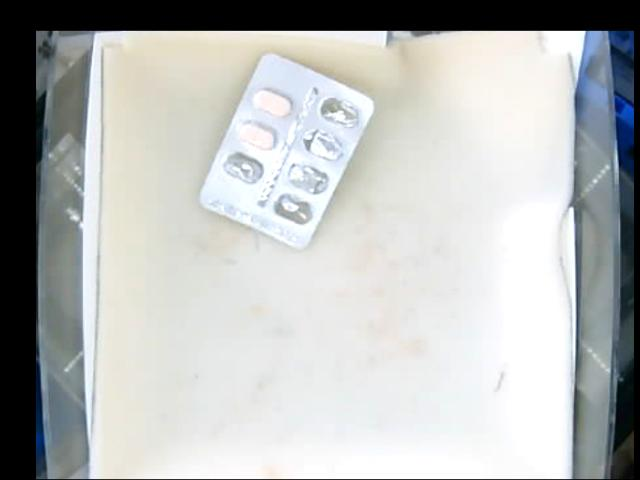Medicine: (193, 50, 376, 244)
